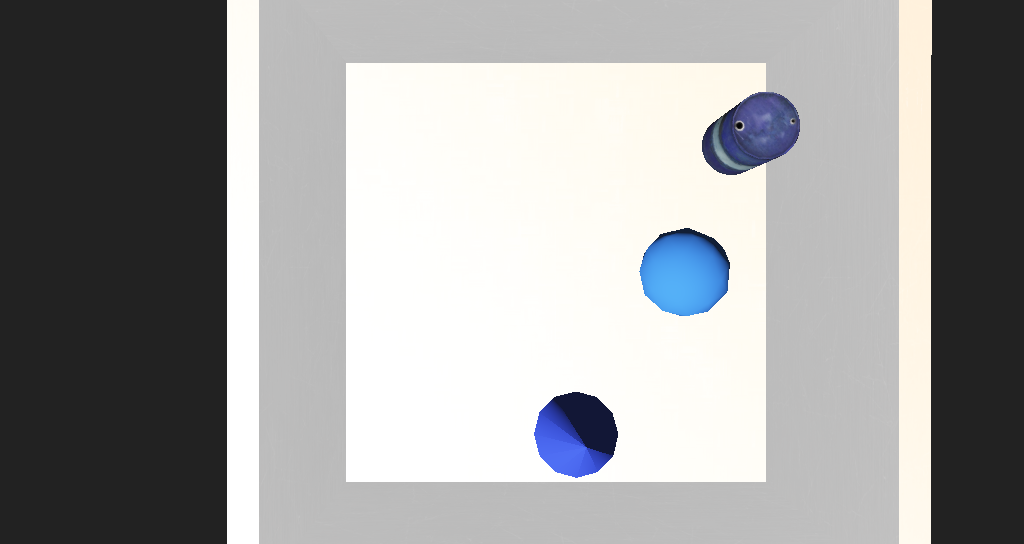cone: (613, 181, 667, 220)
cylinder: (495, 324, 556, 382)
sphere: (559, 243, 627, 291)
